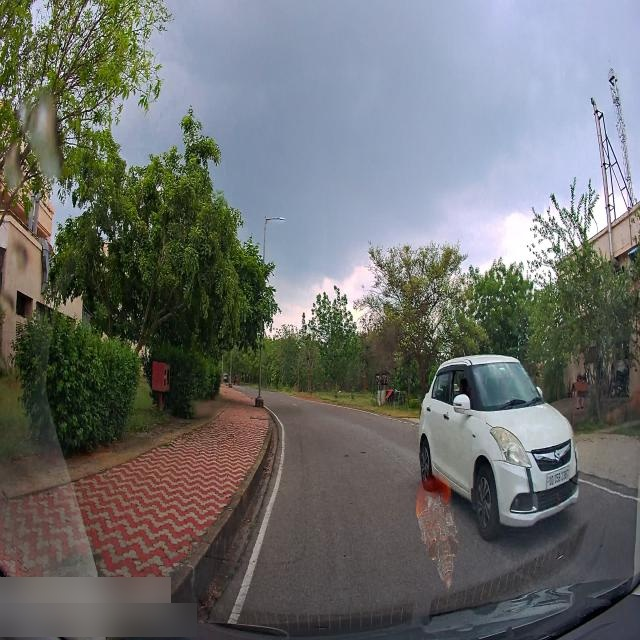pothole: (344, 452, 351, 458), (360, 448, 368, 453)
